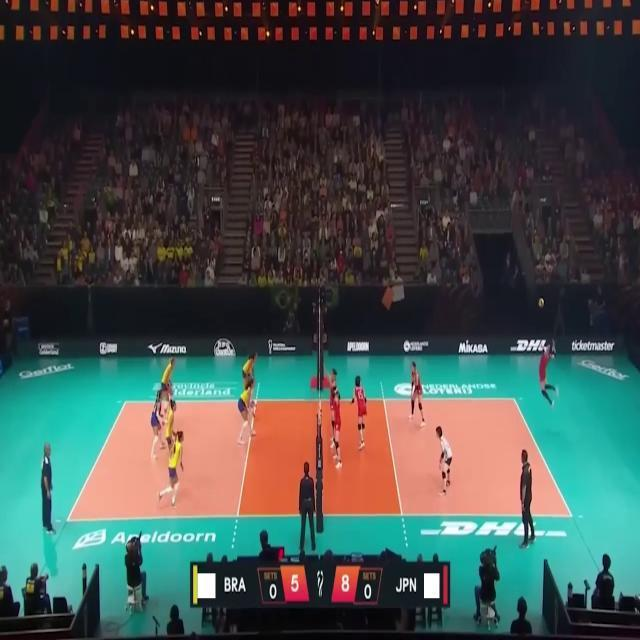volleyball: (538, 298, 544, 307)
